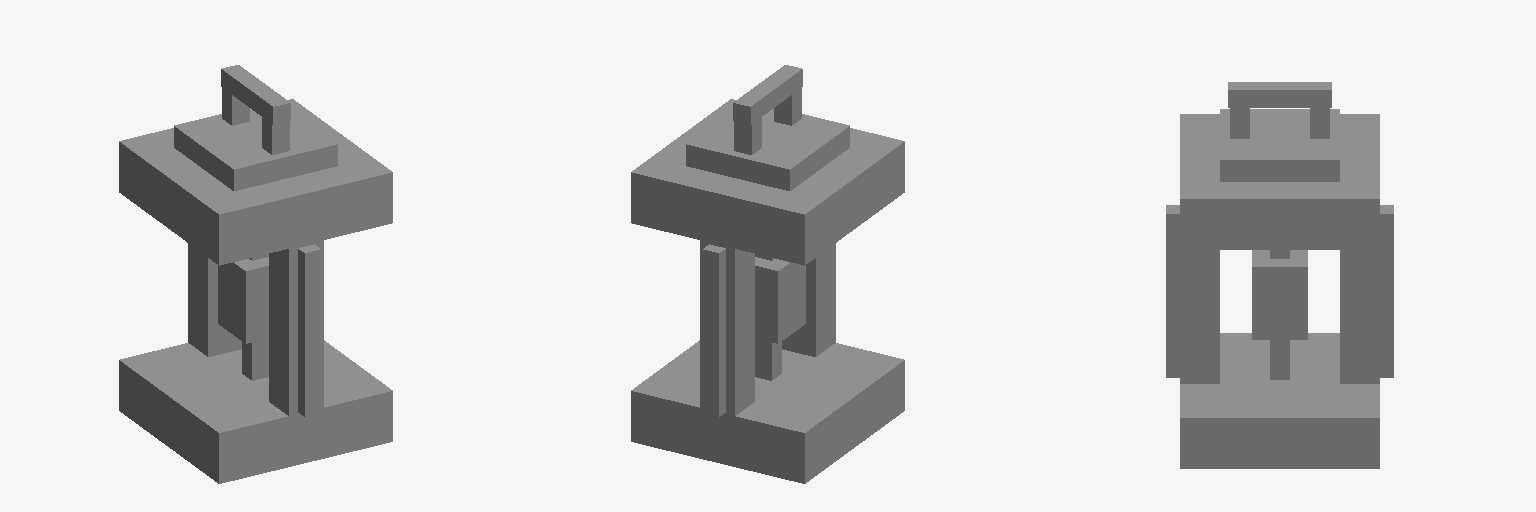
File: fulloilcy.obj
3 views of the same model, side by side, from view 1: azimuth 30°, elevation 25°; view 2: azimuth 150°, elevation 25°; view 3: azimuth 270°, elevation 25° (orthographic).
Visible parts, largest first — view 1: Cube.012_Cube.004; view 2: Cube.012_Cube.004; view 3: Cube.012_Cube.004.
Boxes of the visible parts, <box> form: Cube.012_Cube.004: <box>119,65,392,483</box>; Cube.012_Cube.004: <box>631,65,904,483</box>; Cube.012_Cube.004: <box>1166,82,1393,468</box>.
Size of the model in its own units: 1.25 by 2.34 by 1.42.